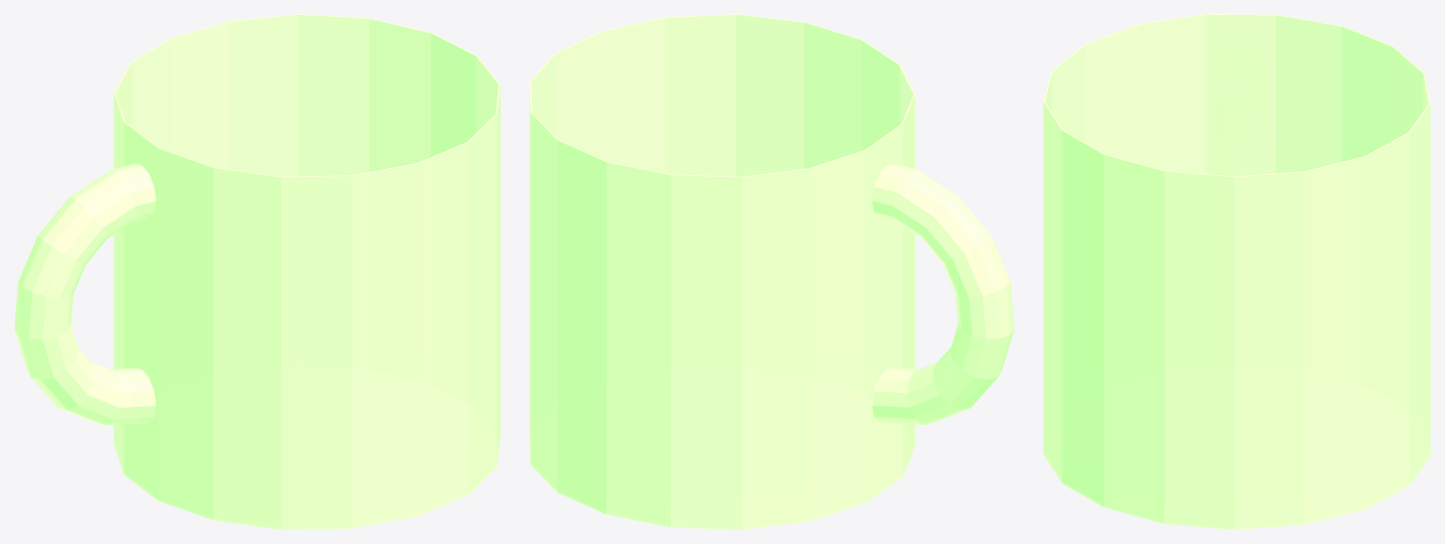
Rendered from uraniumcup.fbx.
3 renders of one model, left to right at view 1: azimuth 30°, elevation 25°; view 2: azimuth 150°, elevation 25°; view 3: azimuth 270°, elevation 25°, orthographic.
Parts seen in each view (by area): view 1: cup; view 2: cup; view 3: cup.
Boxes of the visible parts, <box> form: cup: <box>14,14,500,529</box>; cup: <box>529,14,1014,529</box>; cup: <box>1043,14,1430,529</box>.
Size of the model in its own units: 199 by 146 by 145.
